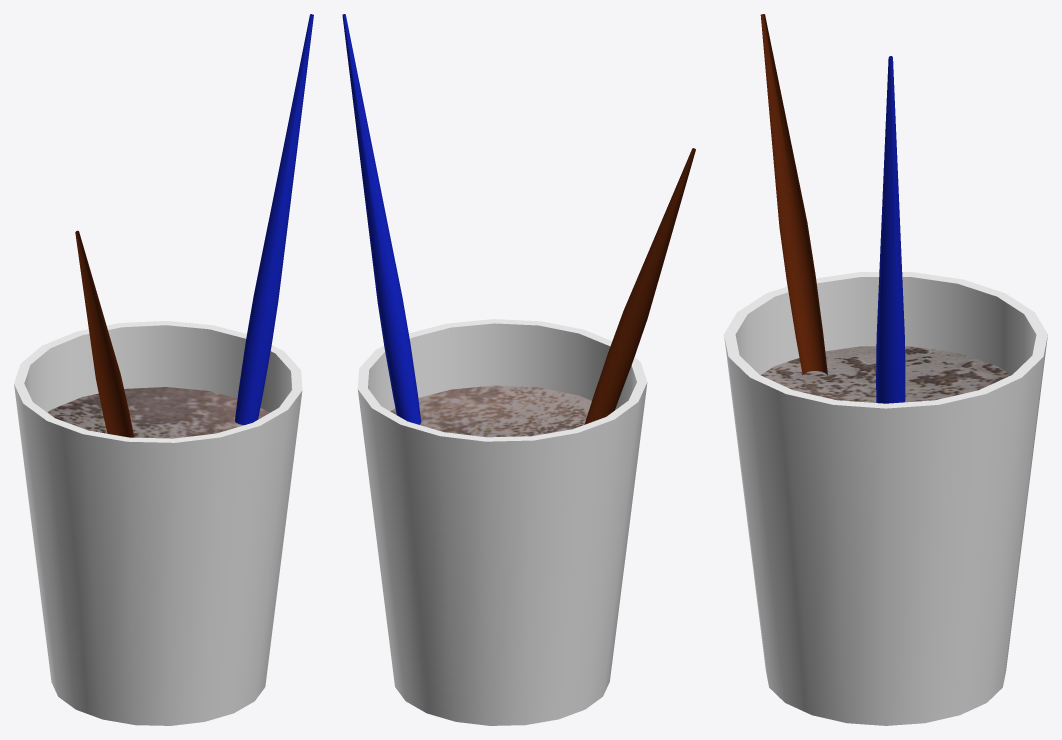
The model's file is Brushes.FBX.
The picture shows the model from 3 angles, left to right: view 1: azimuth 30°, elevation 25°; view 2: azimuth 150°, elevation 25°; view 3: azimuth 270°, elevation 25°; orthographic projection. The views are drawn at different scales.
Visible parts, largest first — view 1: Brushes; view 2: Brushes; view 3: Brushes.
Boxes of the visible parts, box(x1,y1,x2,y2) form: Brushes: box(14, 14, 313, 725); Brushes: box(342, 14, 695, 725); Brushes: box(724, 14, 1047, 725).
Bounding box in the file's own units: 17.8 × 36.13 × 15.09.
Materials: 1 (1 with a texture image).
